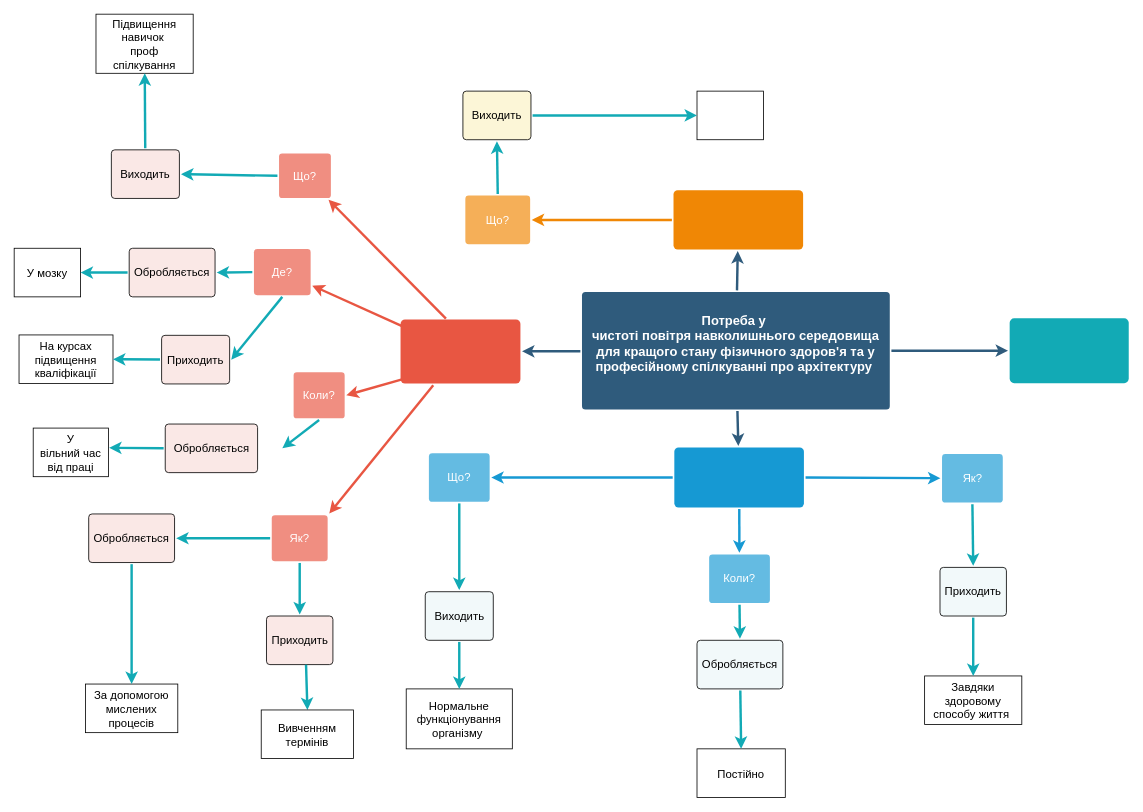
Some shapes in this 1143 by 812 pixel diagram are drawn without their labels. Each missing label, with the centre of its shape:
"Вивчення нового" goes at point 729,115.
"Зацікавленість архітектурою" goes at point 738,219.
"Професійне спілкування" goes at point 460,351.
"Стан фізичного здоров'я" goes at point 739,477.
"Чистота повітря навколишнього середовища" goes at point 1068,350.
